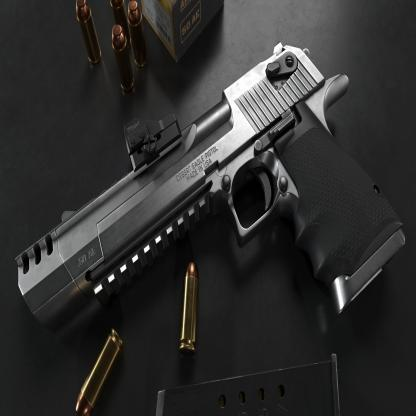handgun: (17, 38, 404, 368)
